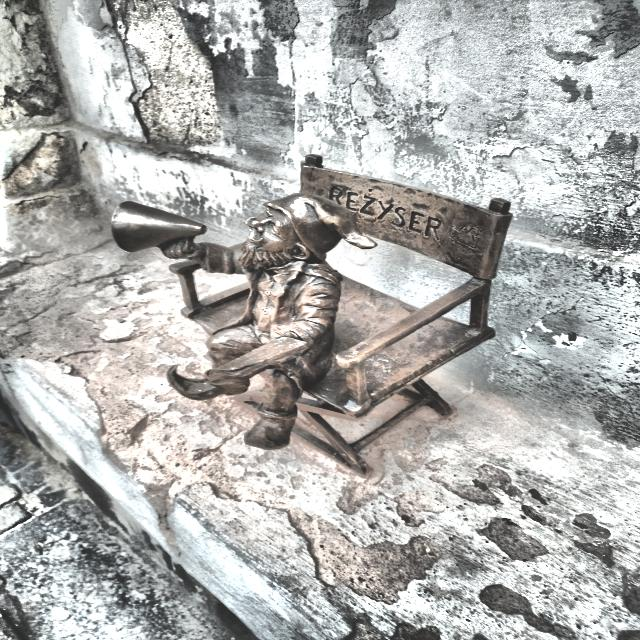Rezyser: (112, 155, 512, 472)
